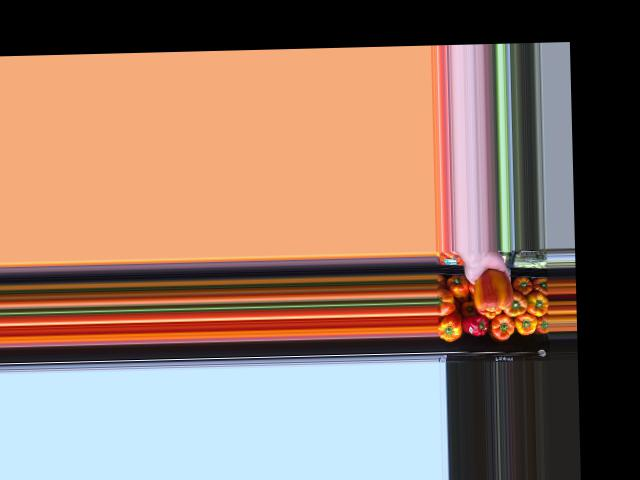bell_pepper: (444, 277, 471, 298)
